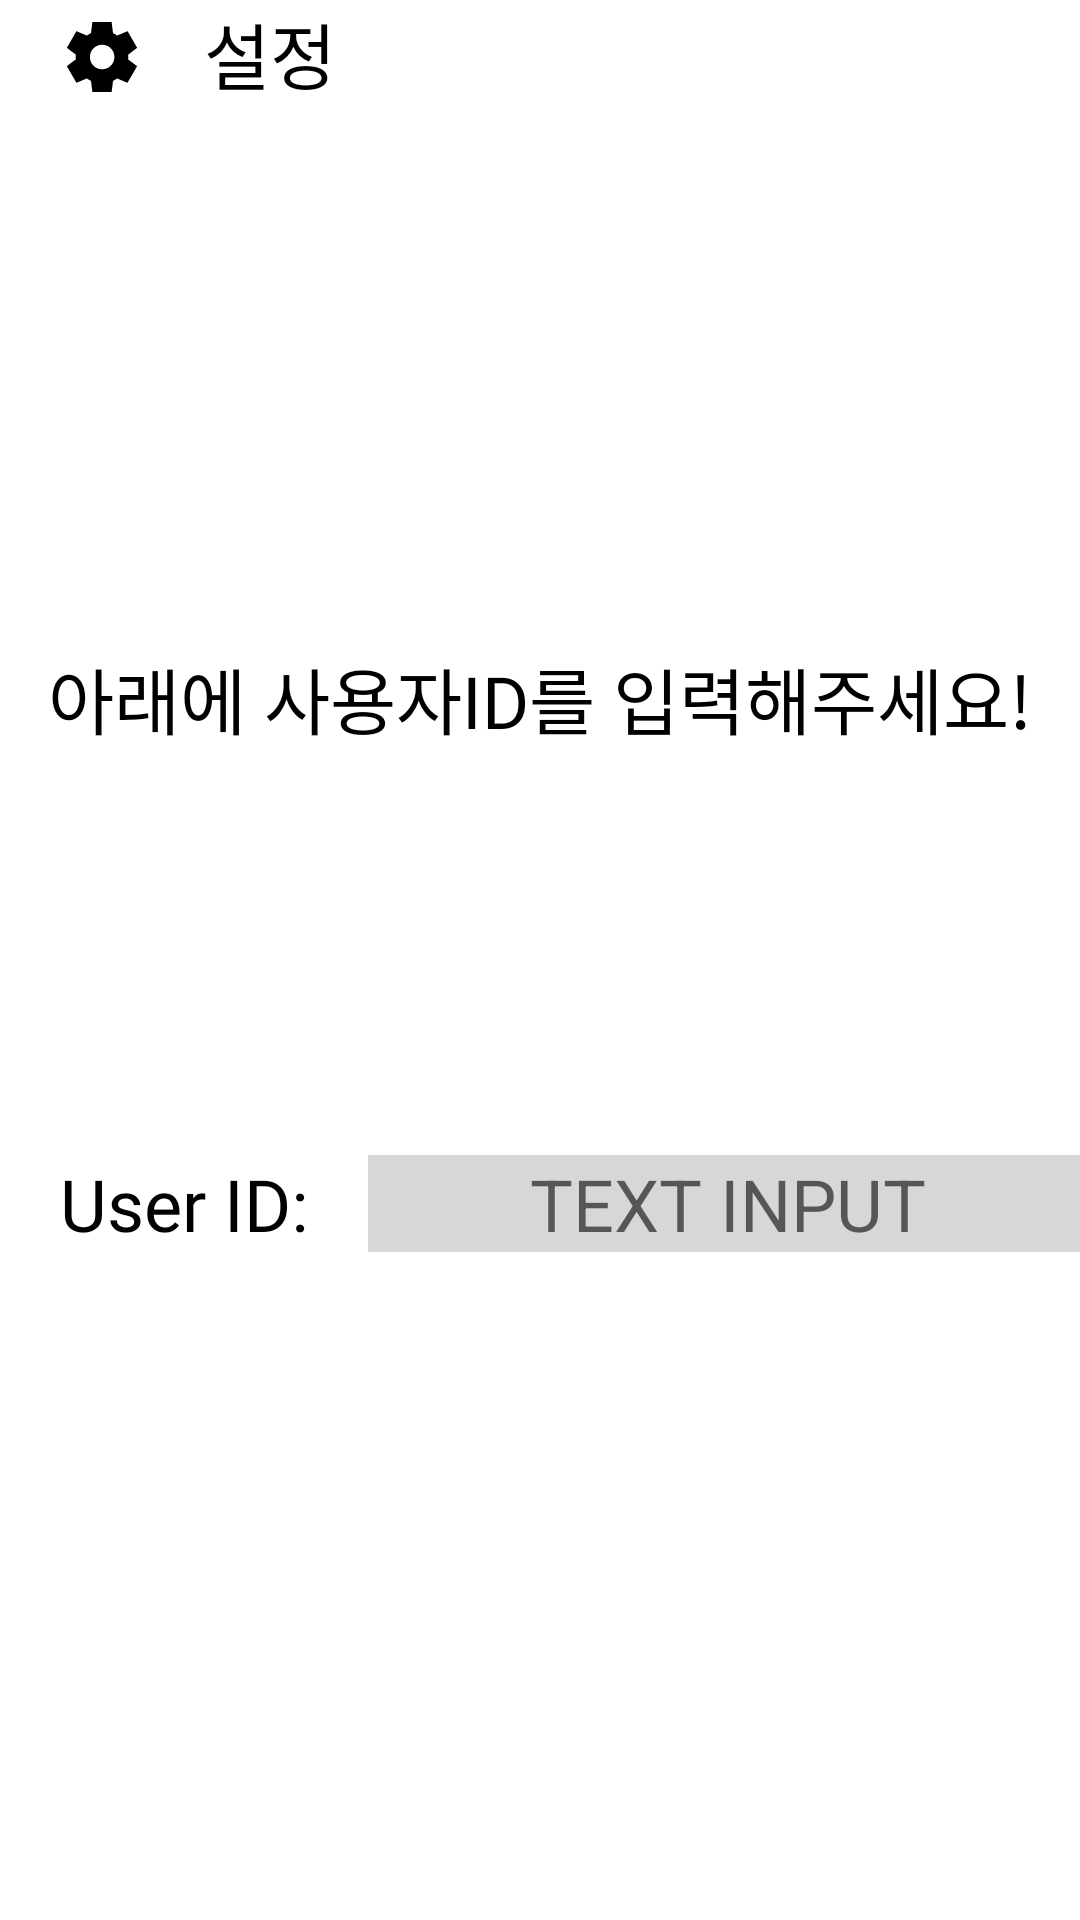

Icons on this 1080×1920 Android screen, each with its box as (x1, y1, x2, y2):
setting: (67, 22, 137, 92)
